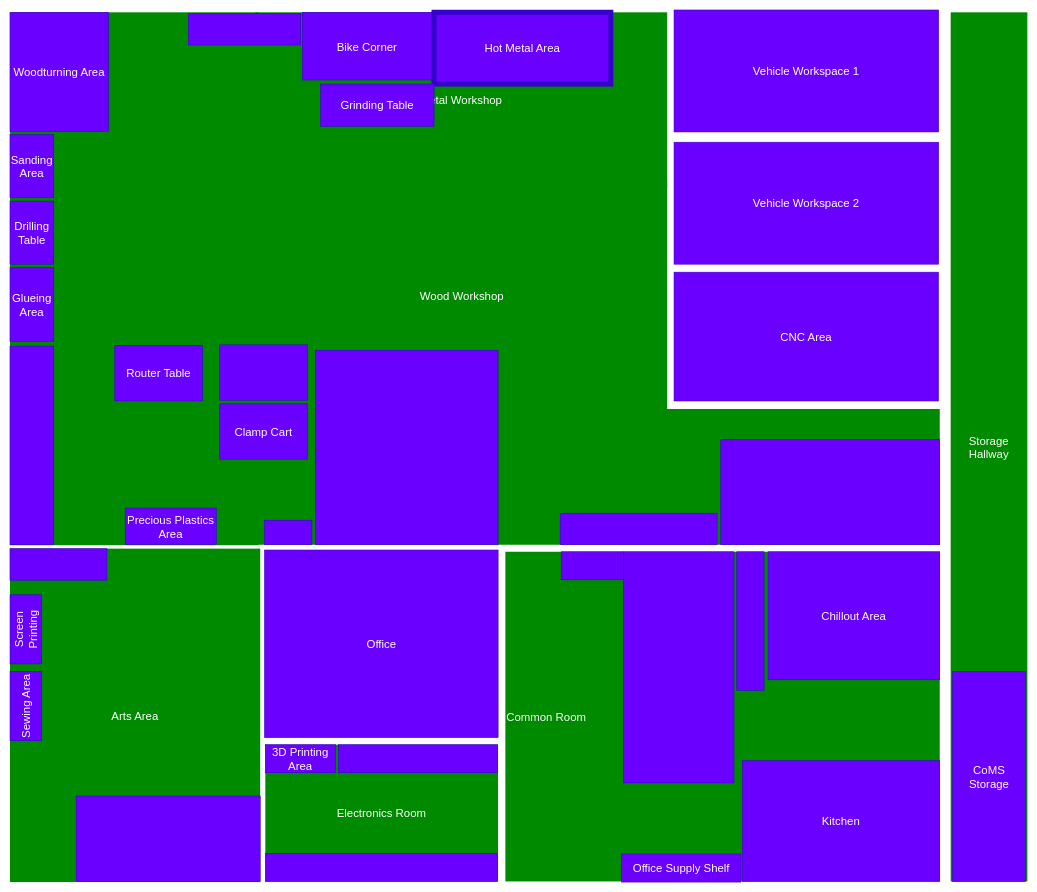
Some shapes in this 1037 by 892 pixel diagram are drawn without their labels. Here are the shapes that lost their labels. From the top down, the centre of each, then its label:
At (244,29): "Wet ´n dirty Area".
At (263,372): "Tool Carousel".
At (31,445): "Saw Stations".
At (406,447): "Handheld Wood Tool Area".
At (830,492): "Public Storage".
At (288,532): "Measuring shelf".
At (638,529): "Wood Storage".
At (58,564): "Raumbox".
At (592,565): "PPE".
At (750,620): "Lockers".
At (678,667): "Seminar Area".
At (417,758): "Electronics Area".
At (168,838): "Spraying Area".
At (381,867): "Laser Area".
